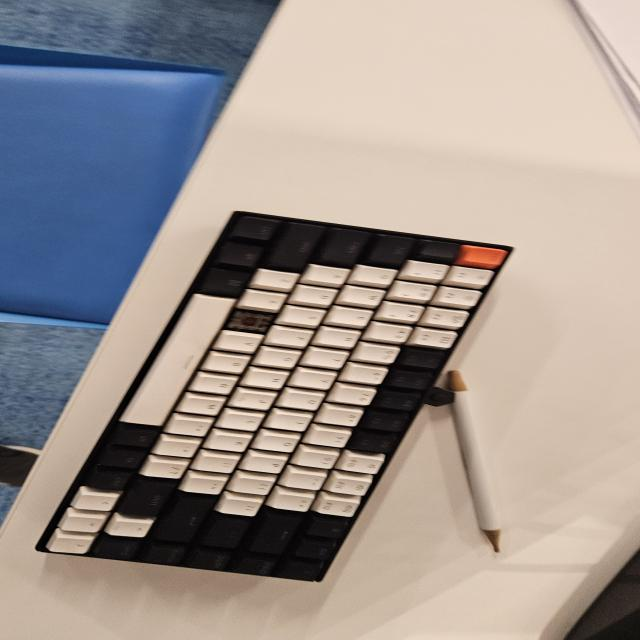C: (235, 308, 267, 333)
